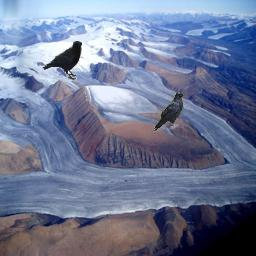Crow: (42, 41, 82, 80), (154, 92, 184, 132)
